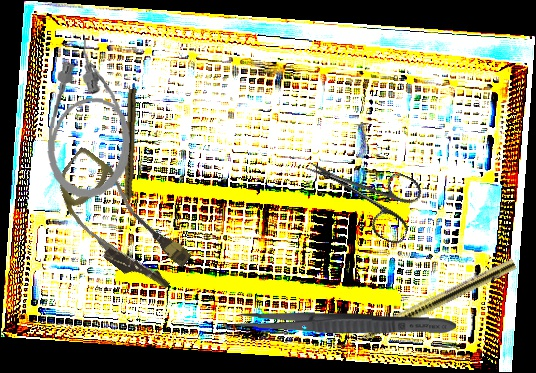Cannula: (36, 145, 204, 300), (43, 35, 139, 202)
Dressing Forceps: (230, 310, 457, 337)
Handpiece: (331, 256, 518, 357), (121, 88, 137, 213)
Iris Scissors: (292, 135, 429, 248)
